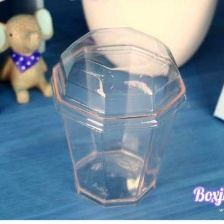glass: (44, 20, 196, 210)
